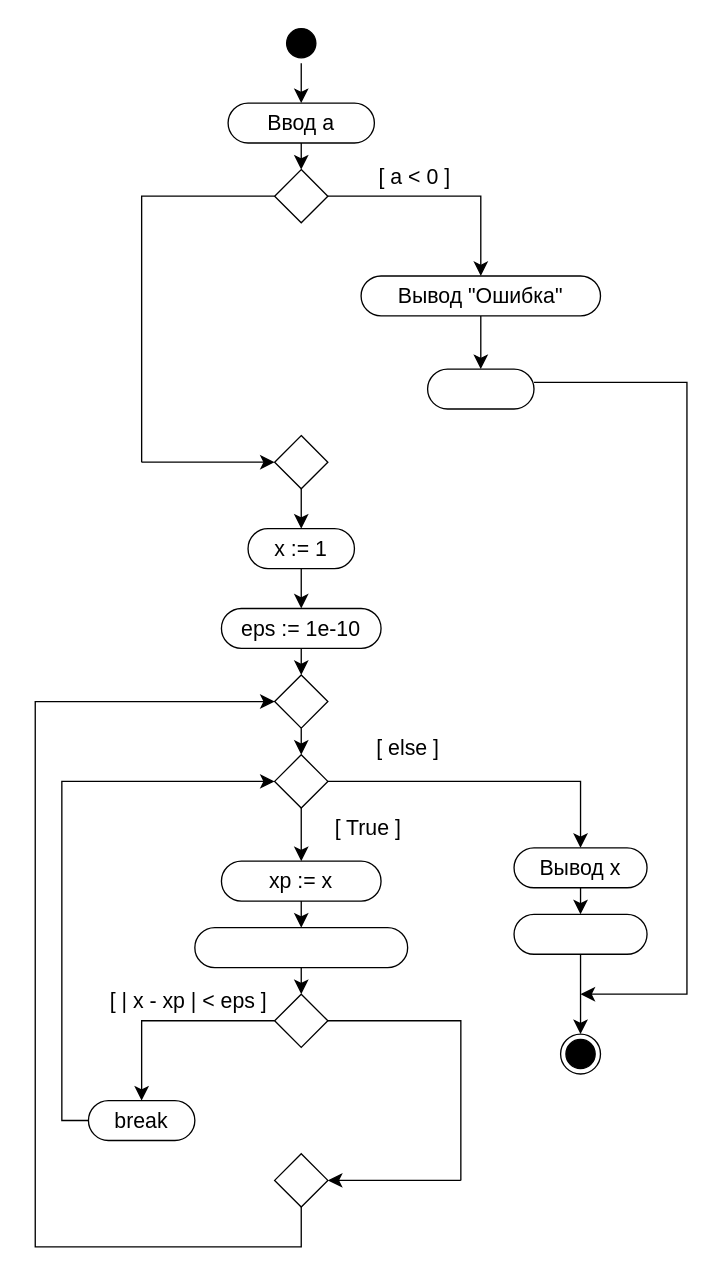
Some shapes in this 724 by 1283 pixel diagram are drawn without their labels. The shapes that lost their labels are listed below. From the top down, each one's box as (x1, y1, x2, y2) in pixels, then its label:
(426, 368, 534, 409): exit(1)
(194, 926, 408, 968): x := (x + a / x) / 2
(513, 913, 647, 954): Вывод √a
